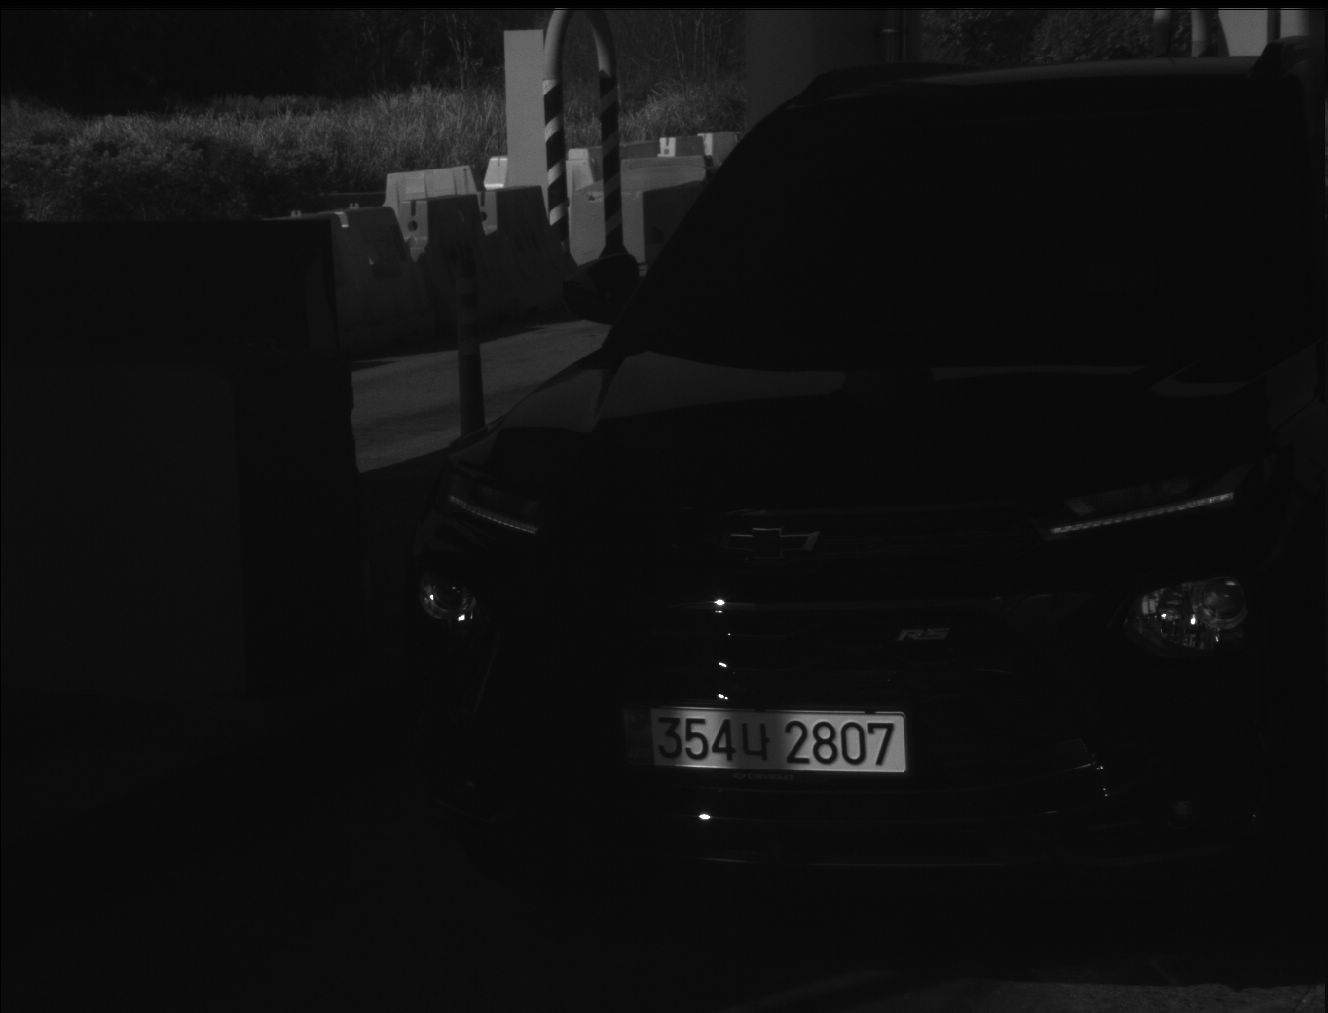car: (366, 43, 1324, 851)
plate: (642, 698, 912, 776)
